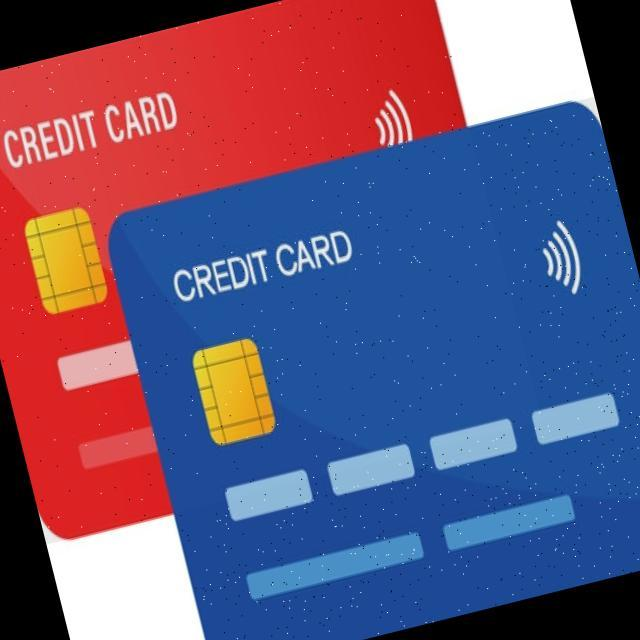payment_card: (106, 97, 638, 638)
